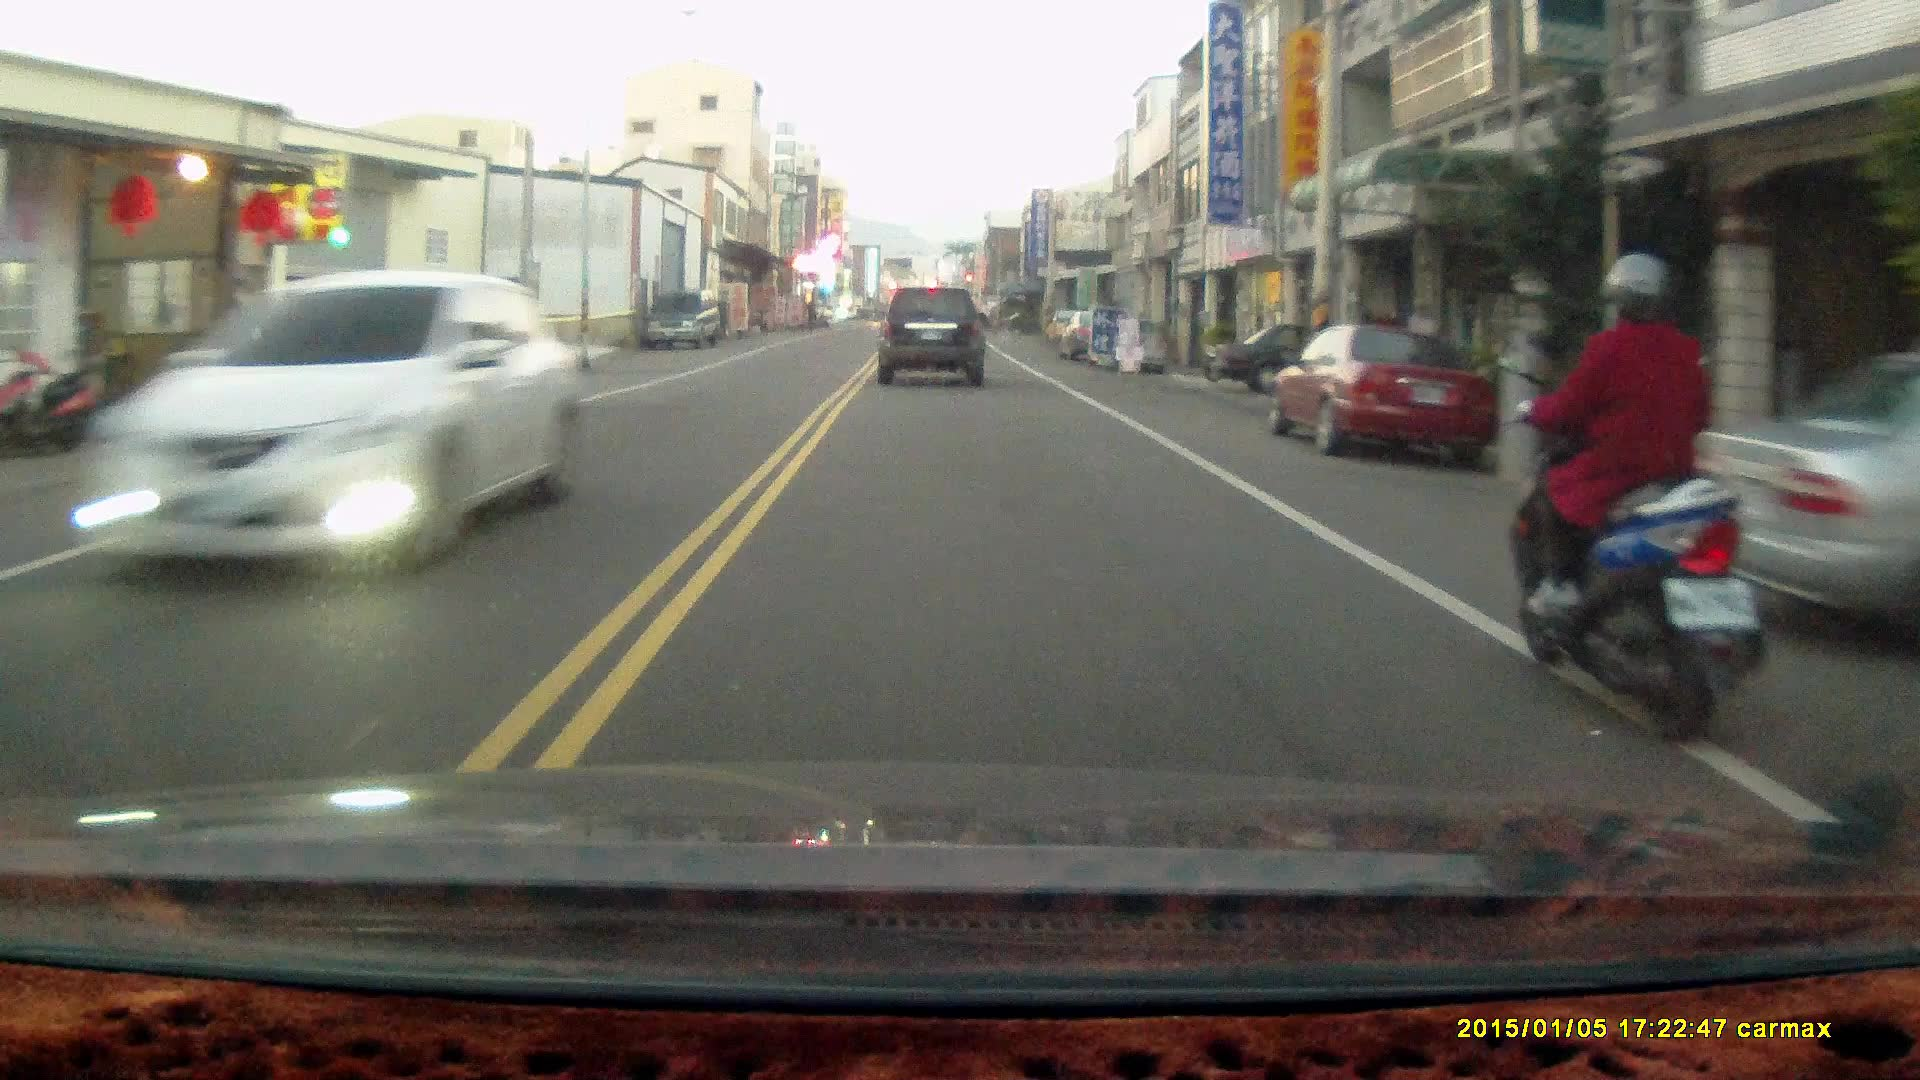rider: (1506, 242, 1777, 754)
vehicle: (46, 268, 576, 575), (1673, 340, 1920, 659), (1271, 313, 1501, 466), (1204, 322, 1413, 393), (879, 277, 989, 383), (647, 288, 724, 351)
